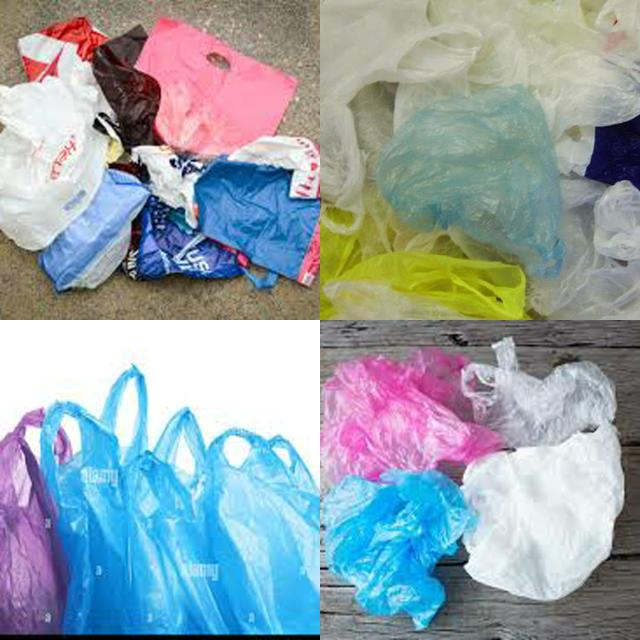Single-layer Plastic: (40, 366, 319, 633), (84, 366, 226, 634), (320, 0, 482, 233), (376, 85, 565, 278), (434, 0, 640, 174), (462, 422, 624, 601), (321, 349, 504, 486), (206, 430, 320, 633), (324, 470, 468, 629), (136, 18, 298, 158), (0, 81, 109, 251), (461, 336, 616, 448), (529, 176, 640, 319), (195, 159, 320, 279), (322, 251, 526, 319), (40, 169, 150, 291), (0, 409, 60, 632)
